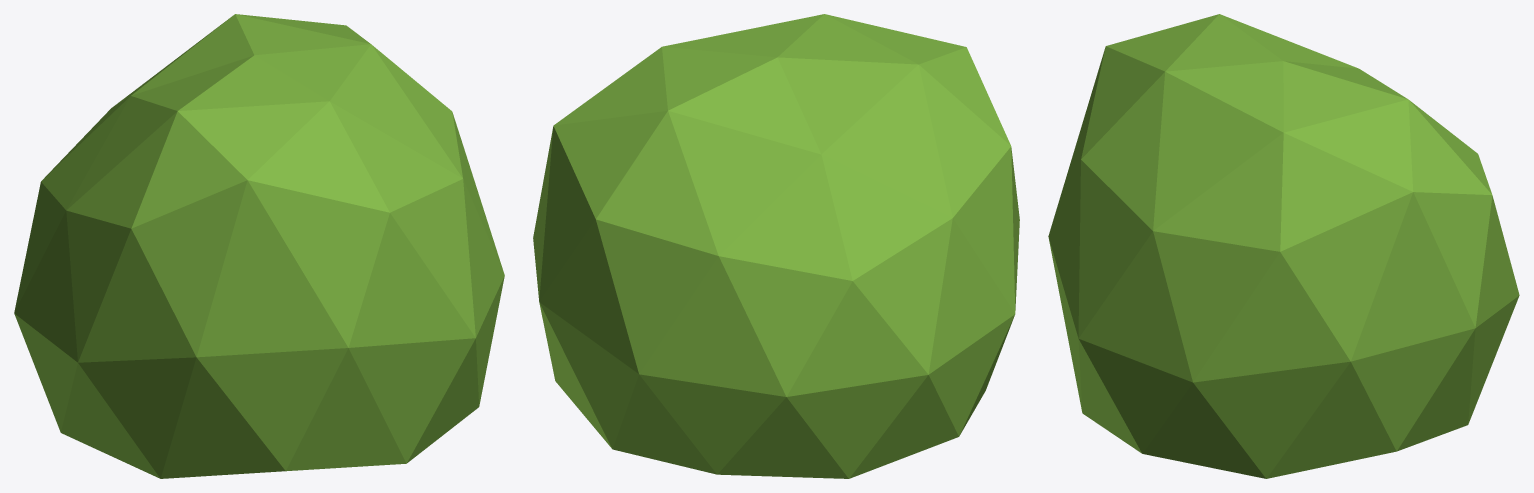
3 renders of one model, left to right at view 1: azimuth 30°, elevation 25°; view 2: azimuth 150°, elevation 25°; view 3: azimuth 270°, elevation 25°, orthographic. The views are drawn at different scales.
Parts seen in each view (by area): view 1: Bush1_2; view 2: Bush1_2; view 3: Bush1_2.
Part boxes in pixels (left/top/right/bottom): Bush1_2: left=14, top=14, right=504, bottom=478; Bush1_2: left=533, top=14, right=1019, bottom=478; Bush1_2: left=1048, top=14, right=1519, bottom=478.
Size of the model in its own units: 84.11 by 69.28 by 84.79.
